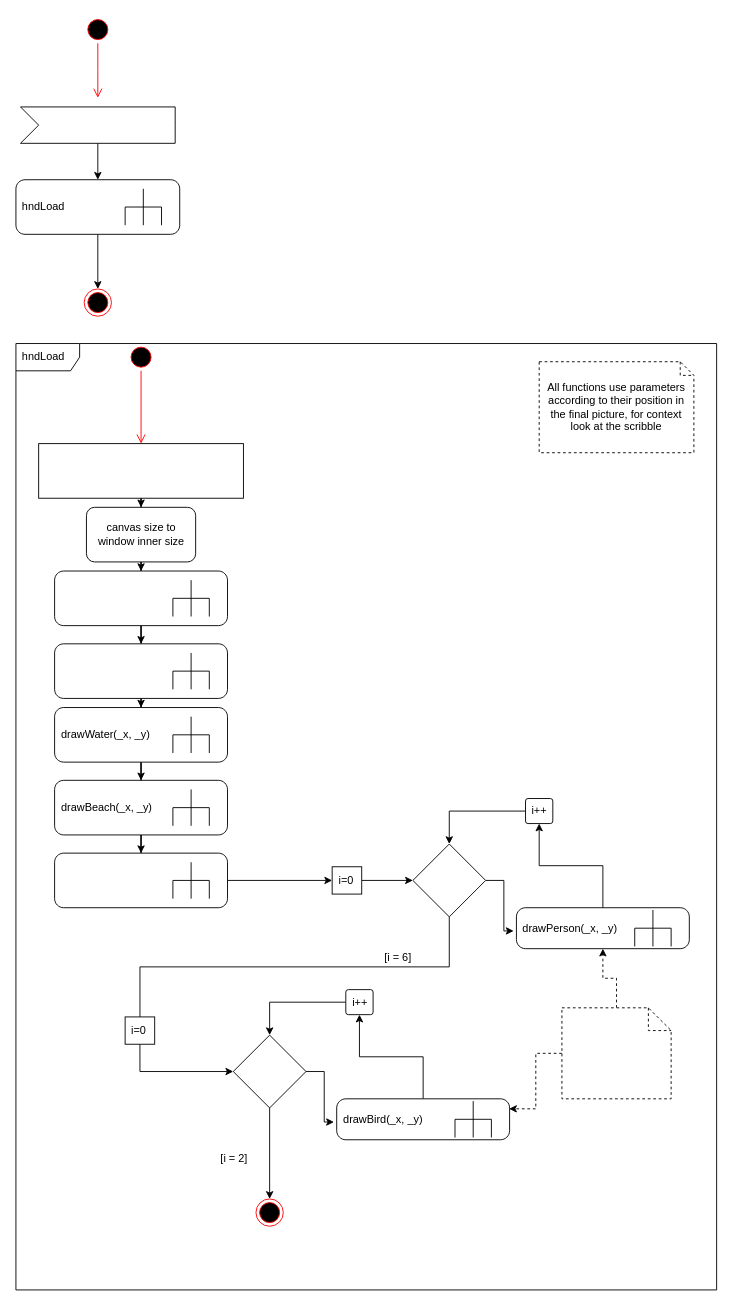
Some shapes in this 733 by 1306 pixel diagram are drawn without their labels. Here are the shapes that lost their labels. From the top down, the box of each, then its label:
(20, 106, 175, 143): load
(38, 443, 243, 498): canvas: HTMLCanvasElement crc2: CanvasRenderingContext2D
(54, 570, 228, 626): drawHorizon(_x, _y)
(54, 643, 228, 698): drawSun(_x, _y)
(54, 852, 228, 908): drawClouds(_x, _y)
(561, 1007, 671, 1099): Person and Bird are placed randomly in their assigned position
